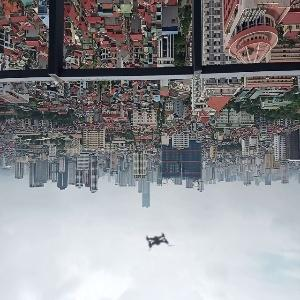drone: (131, 216, 186, 271)
